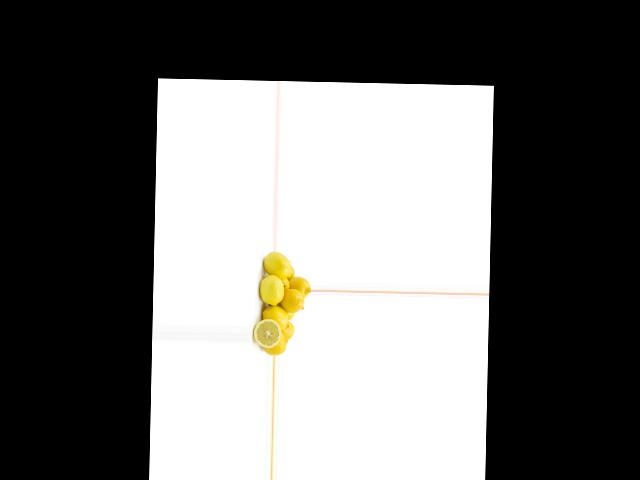lemon: (263, 332, 286, 354)
